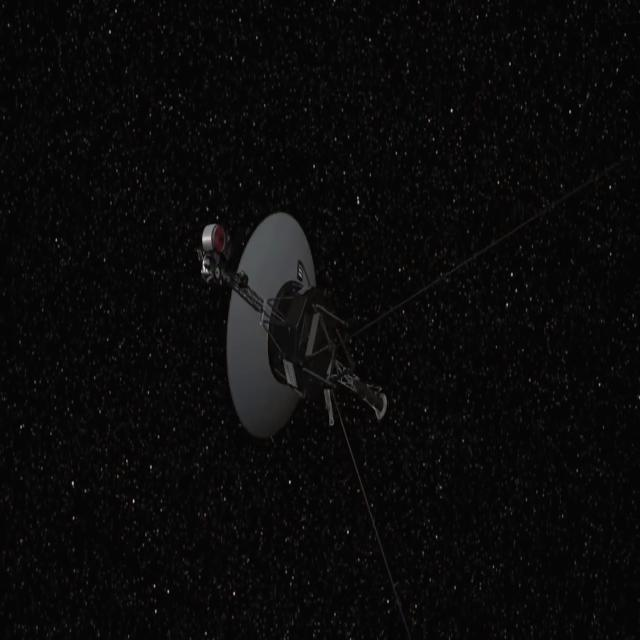satellite: (178, 143, 414, 503)
